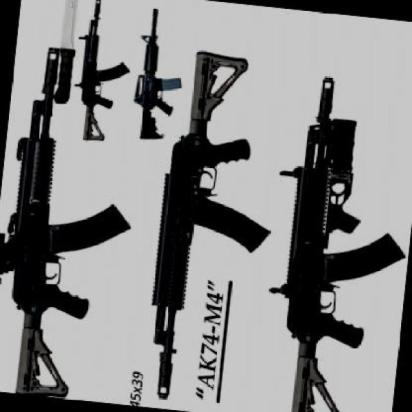Gun: (133, 41, 300, 412), (0, 38, 138, 402), (268, 70, 412, 412), (58, 3, 140, 150), (121, 3, 200, 146)
